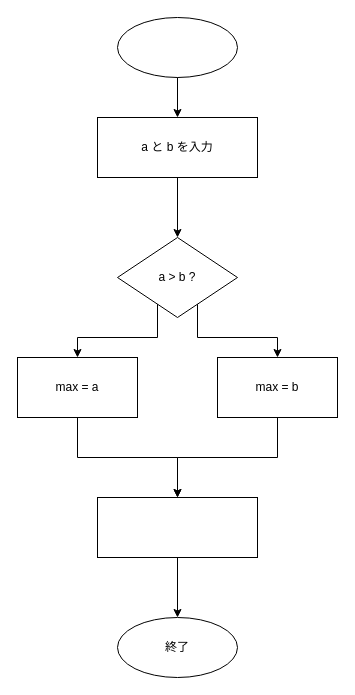
The diagram is 355 pixels wide and 695 high, and some of its shapes have lost their labels. Each missing label, with the centre of its shape:
max を表示: the point at 177,527
開始: the point at 177,47
